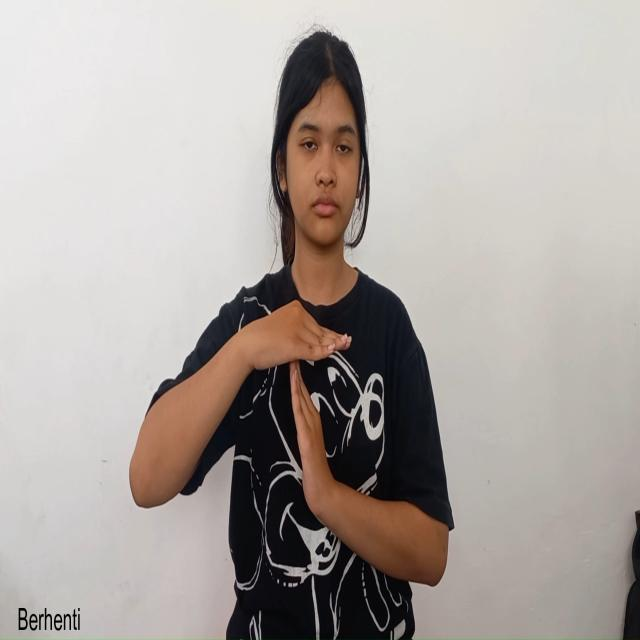Berhenti -BISINDO-: (238, 288, 365, 512)
